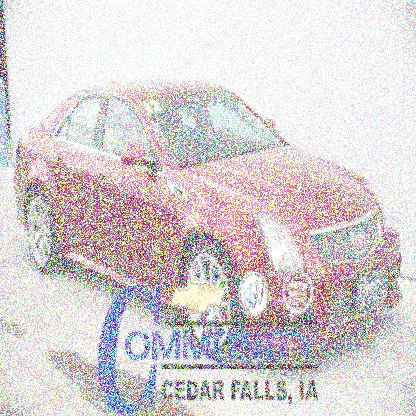Vehicle: (13, 82, 406, 362)
